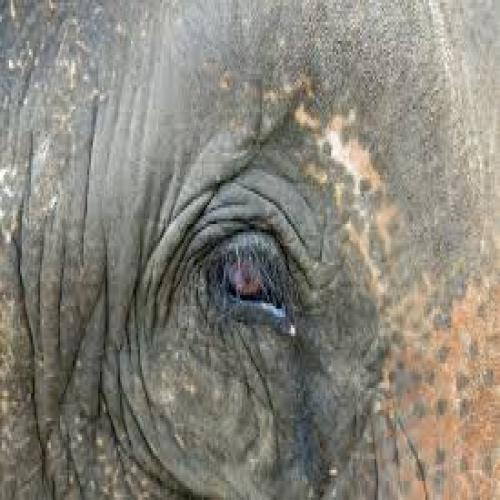asian_elephant-endangered: (6, 9, 488, 473)
